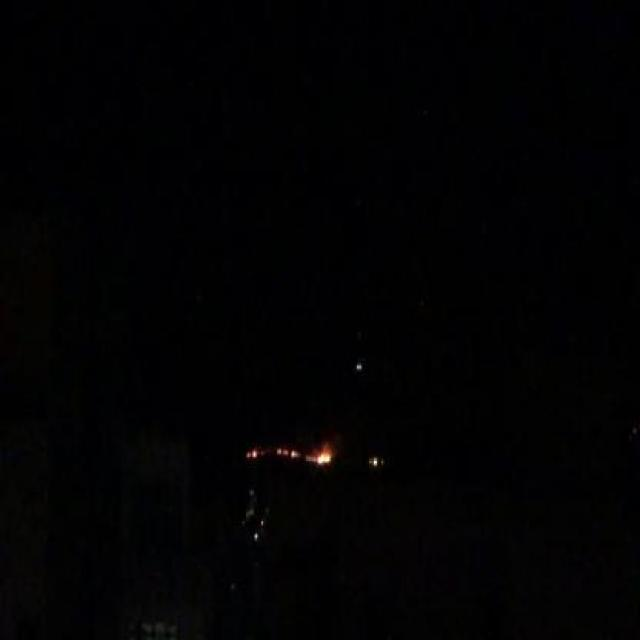Fire: (308, 445, 332, 467), (278, 446, 297, 460)
